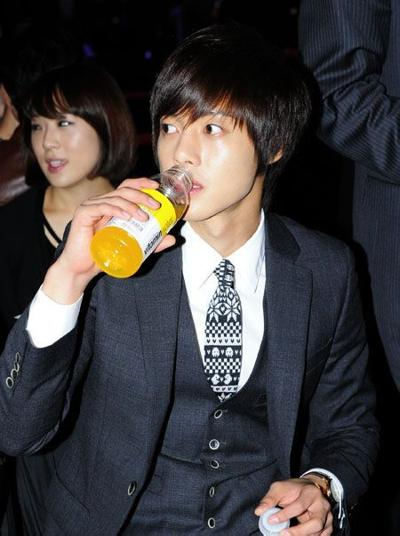person: (2, 31, 377, 536)
